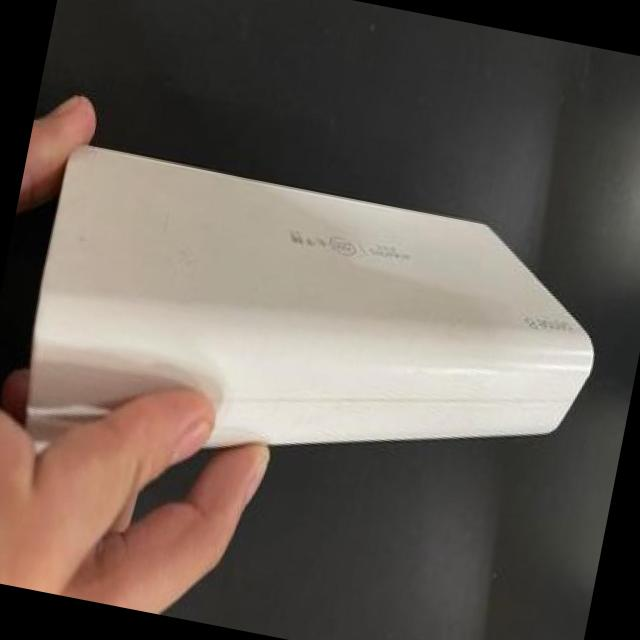power_bank: (0, 57, 640, 584)
